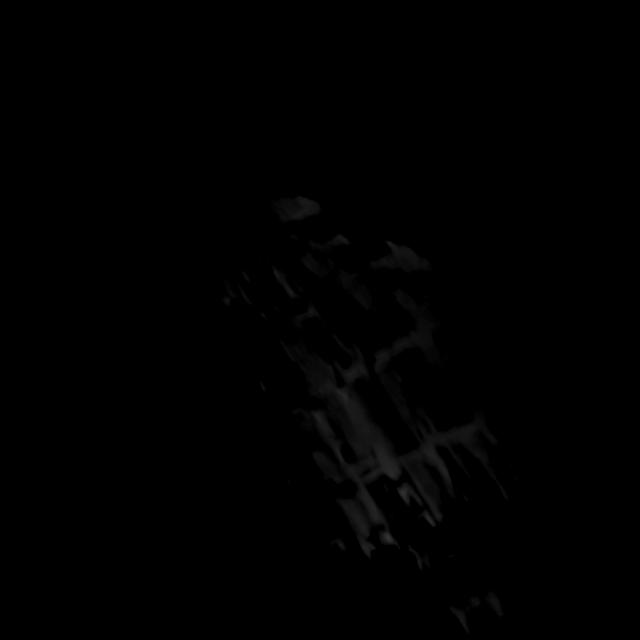death-stars: (144, 182, 640, 640)
